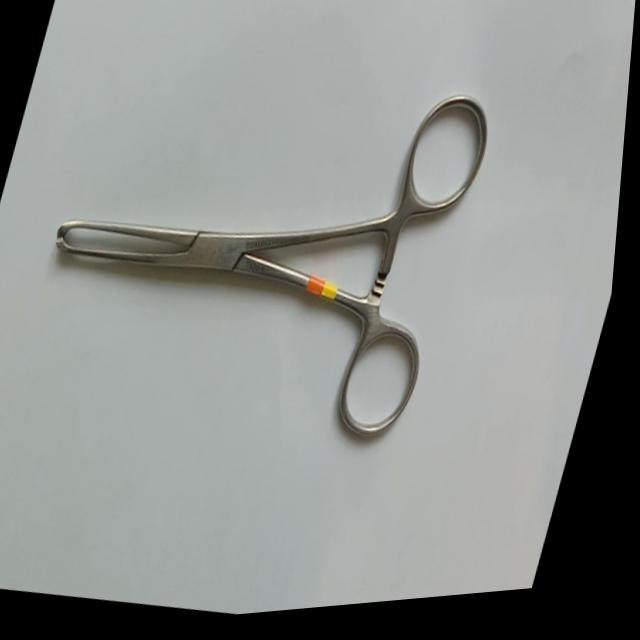AllisForcep: (10, 25, 512, 481)
